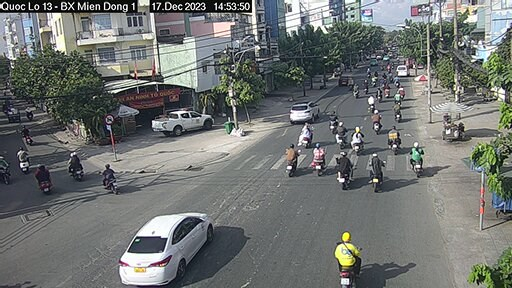car: (111, 211, 218, 288), (146, 107, 227, 135), (286, 94, 323, 121)
motorbike: (328, 233, 372, 282), (277, 143, 300, 181), (367, 150, 384, 197), (331, 155, 354, 188), (312, 143, 328, 184), (411, 143, 427, 184)
